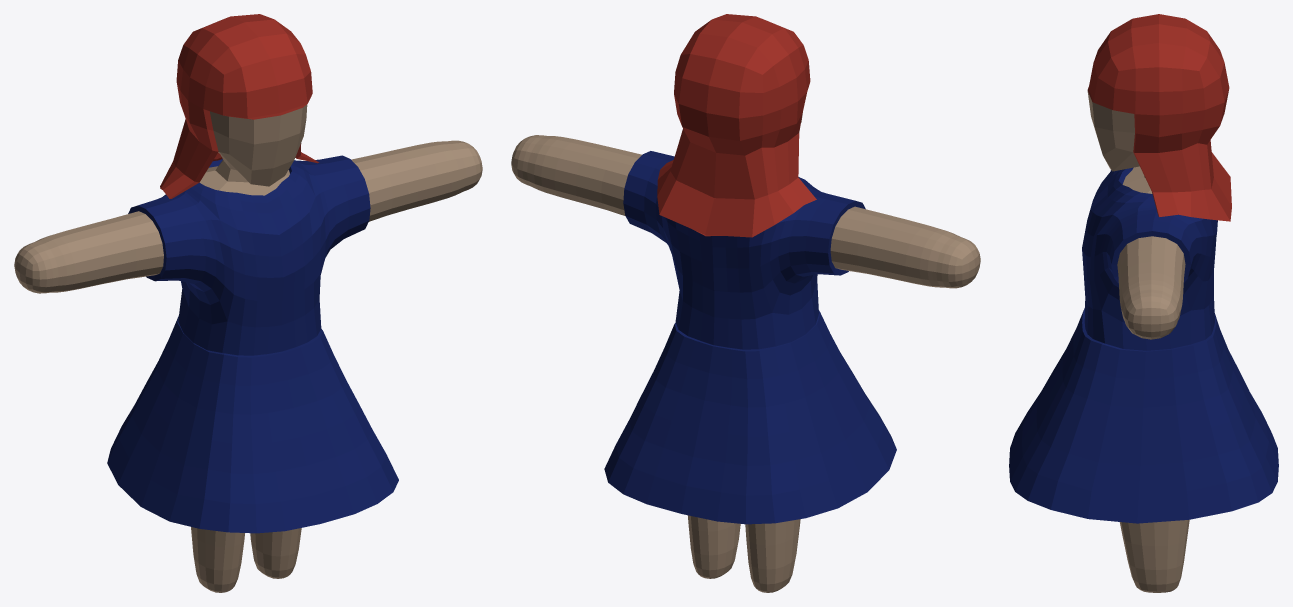
Rendered from Mod3.glb.
3 views of the same model, side by side, from view 1: azimuth 30°, elevation 25°; view 2: azimuth 150°, elevation 25°; view 3: azimuth 270°, elevation 25° (orthographic).
Parts seen in each view (by area): view 1: Modelo 3c; view 2: Modelo 3c; view 3: Modelo 3c.
Boxes of the visible parts, left/top/right/bottom form: Modelo 3c: left=14, top=14, right=482, bottom=592; Modelo 3c: left=511, top=14, right=980, bottom=592; Modelo 3c: left=1009, top=14, right=1278, bottom=592.
Size of the model in its own units: 7.96 by 9.24 by 4.11.
